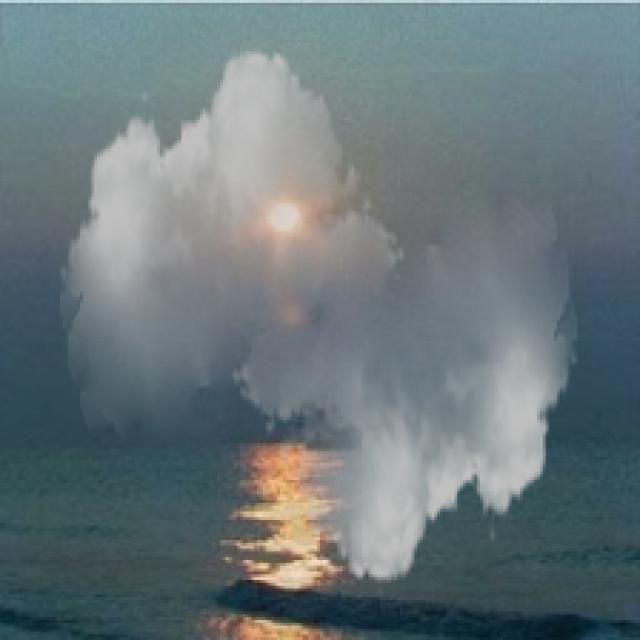smoke: (60, 31, 577, 600)
